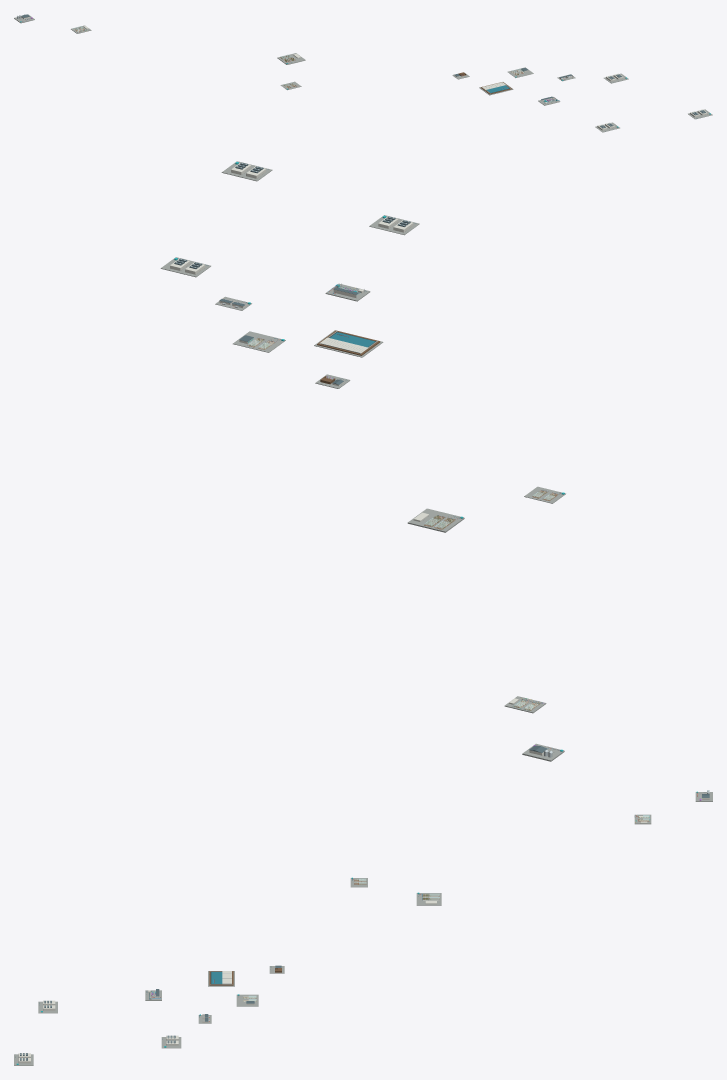
Rendered from facilities.glb.
The picture shows the model from 3 angles, top to bottom: view 1: azimuth 30°, elevation 25°; view 2: azimuth 150°, elevation 25°; view 3: azimuth 270°, elevation 25°; orthographic projection. The views are drawn at different scales.
Size of the model in its own units: 5667 by 76.4 by 6215.
